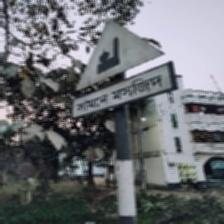Mosque in front: (71, 19, 175, 119)
